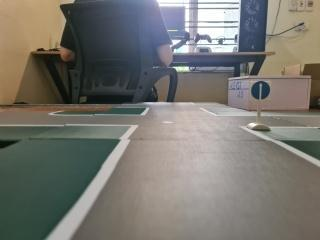straight: (246, 78, 272, 104)
